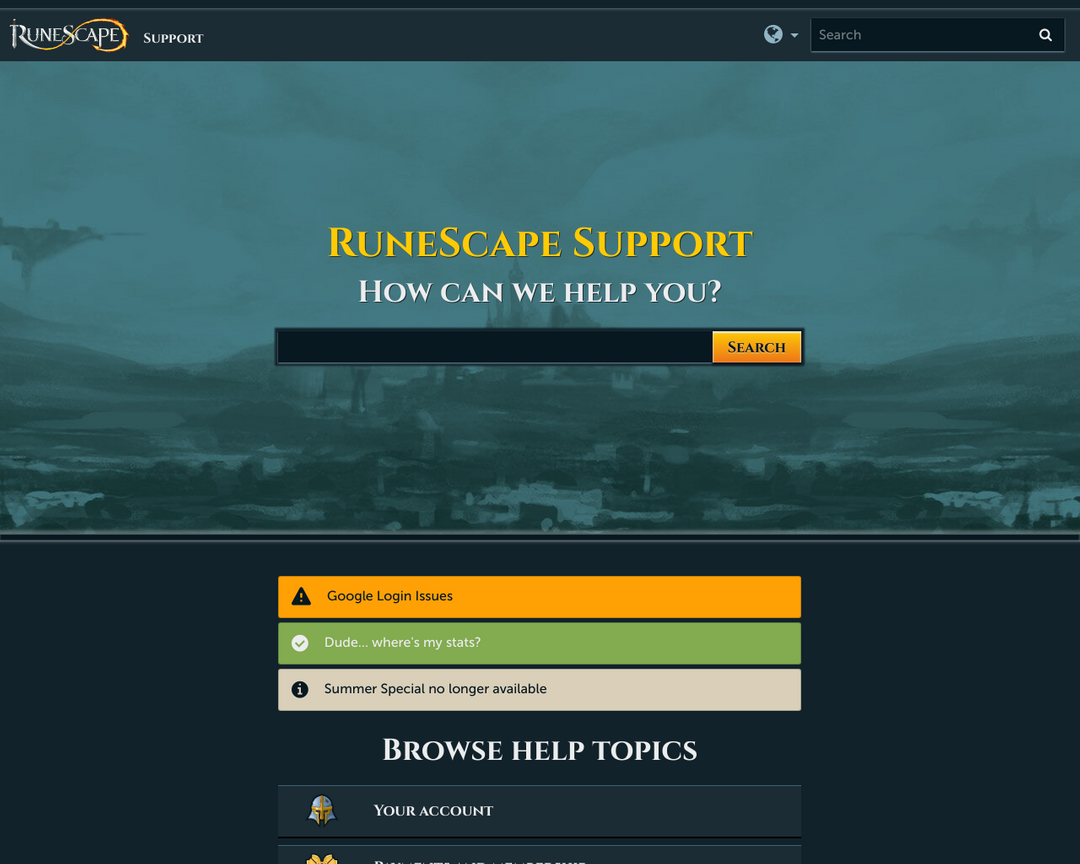Runescape: (5, 9, 137, 59)
